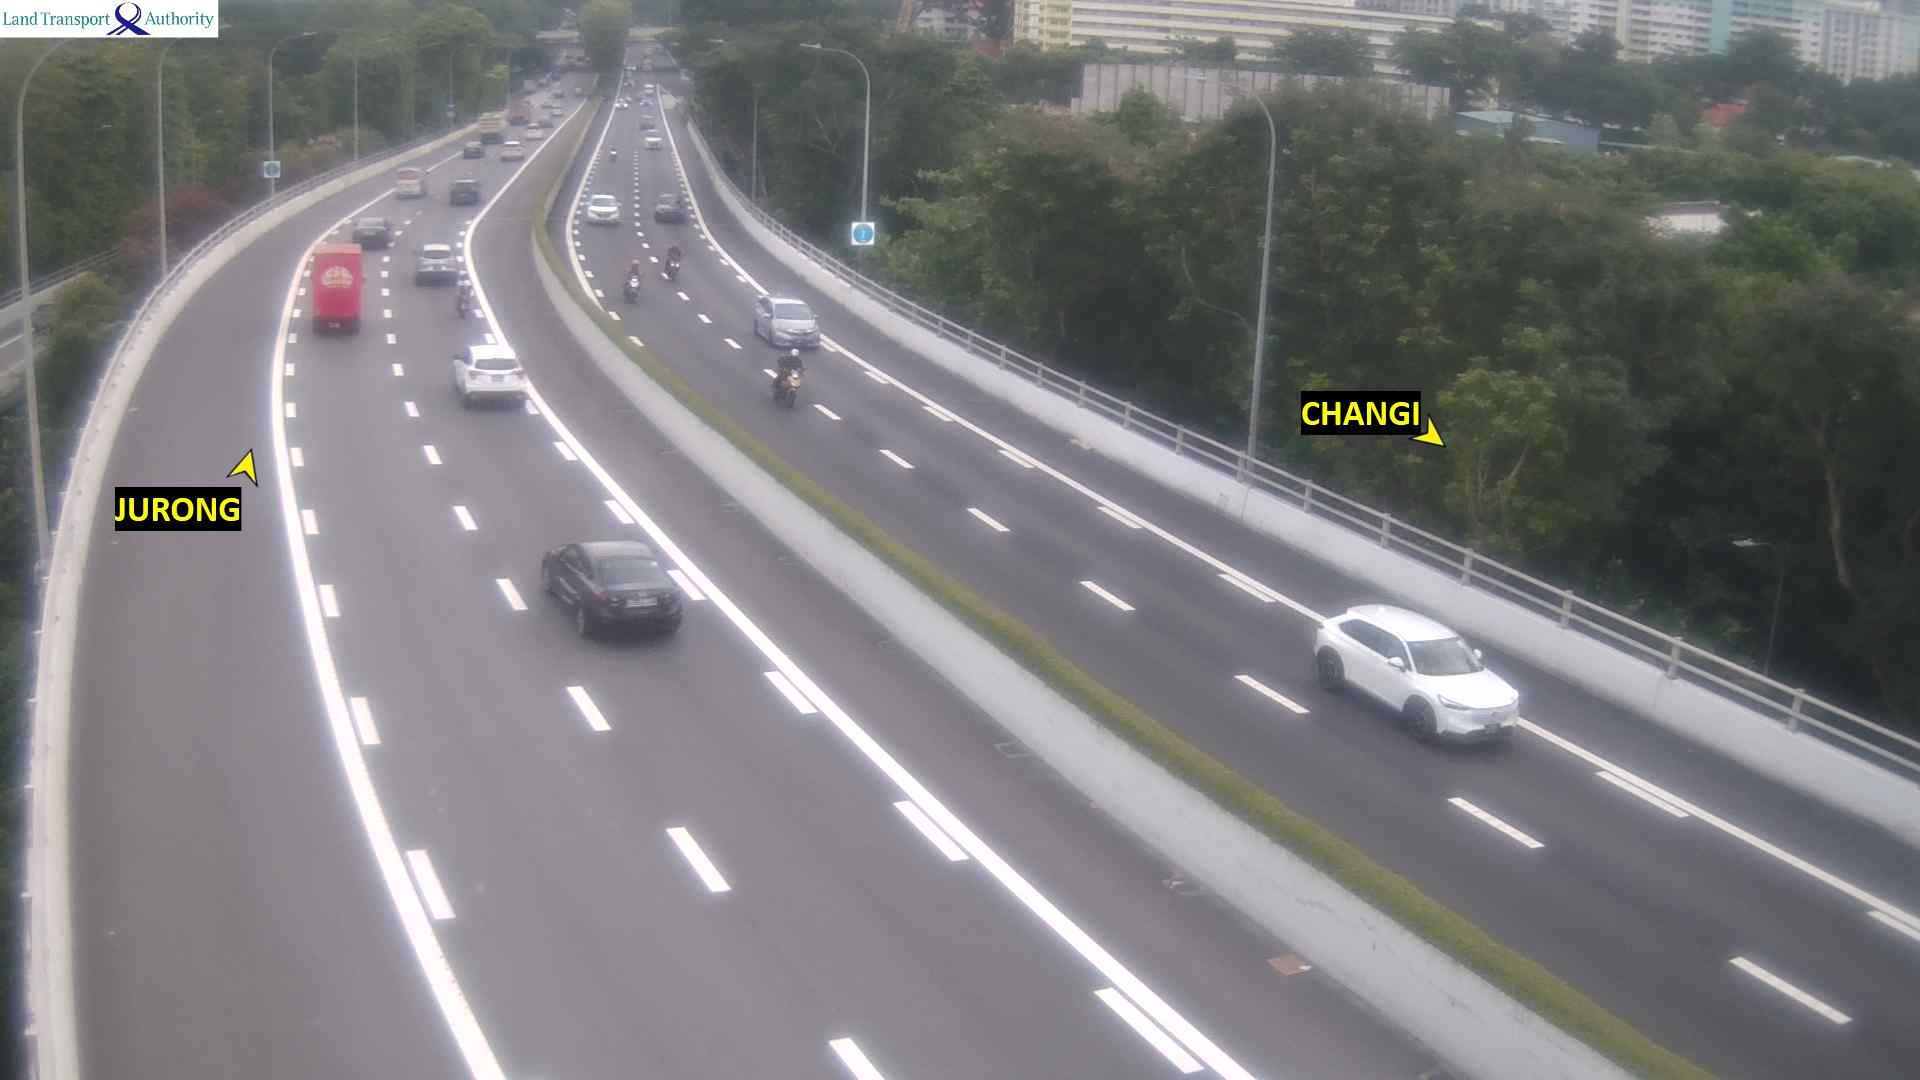cars: (1311, 602, 1520, 745), (540, 538, 683, 638), (451, 343, 527, 407), (752, 294, 820, 349), (413, 241, 462, 285), (352, 215, 392, 248), (585, 192, 620, 224), (652, 192, 685, 221), (394, 166, 423, 197), (448, 176, 480, 204), (499, 139, 524, 160), (462, 140, 484, 158), (524, 120, 544, 138), (478, 129, 502, 144), (643, 131, 661, 148), (638, 114, 656, 130), (548, 105, 565, 121), (638, 96, 658, 108), (616, 96, 629, 109), (539, 99, 552, 110), (642, 82, 655, 92), (552, 90, 567, 97)
motorcycle: (764, 364, 802, 408), (454, 270, 474, 316), (622, 273, 640, 303), (661, 257, 680, 281), (608, 146, 617, 158)
trucks: (309, 241, 363, 334), (507, 101, 532, 125)
